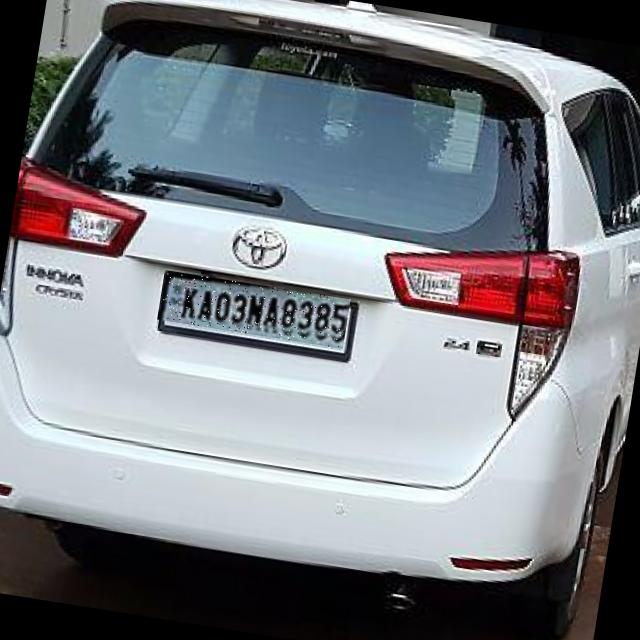Plate: (158, 271, 352, 350)
